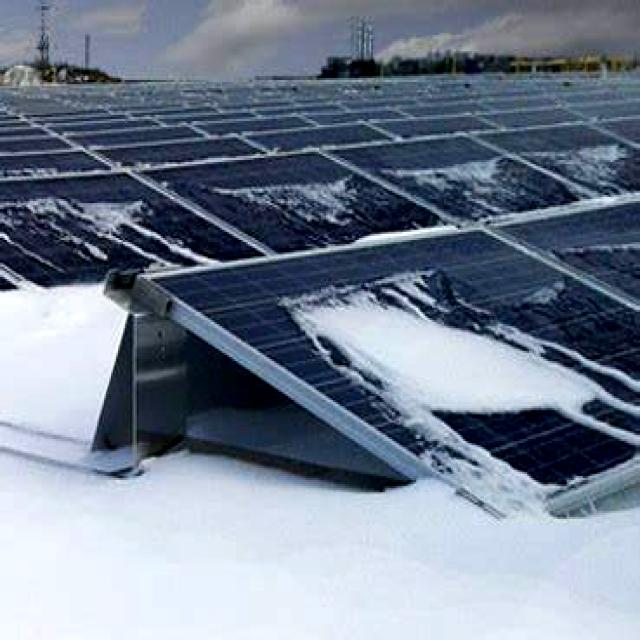panel: (287, 241, 457, 403), (460, 291, 586, 433), (529, 340, 640, 466), (220, 166, 369, 243), (0, 166, 168, 230), (390, 137, 520, 214), (522, 126, 614, 192), (124, 245, 210, 295)
